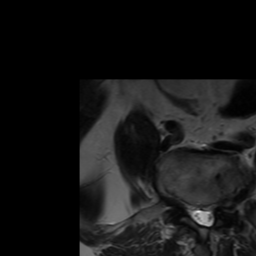CCS_normal: (197, 198, 206, 231)
LFS_severe_stenosis: (215, 193, 224, 218)
LLS_normal: (206, 197, 215, 230)
RFS_severe_stenosis: (181, 193, 189, 216)
RLS_normal: (189, 197, 197, 227)
